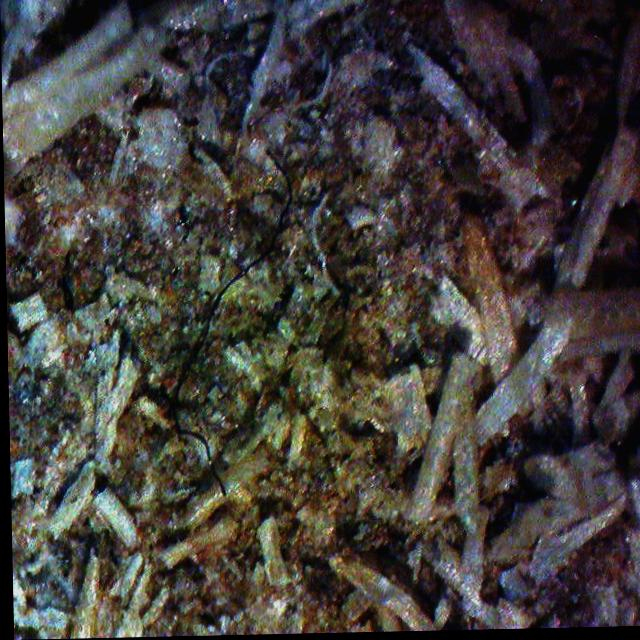microplastic: (155, 143, 304, 462)
